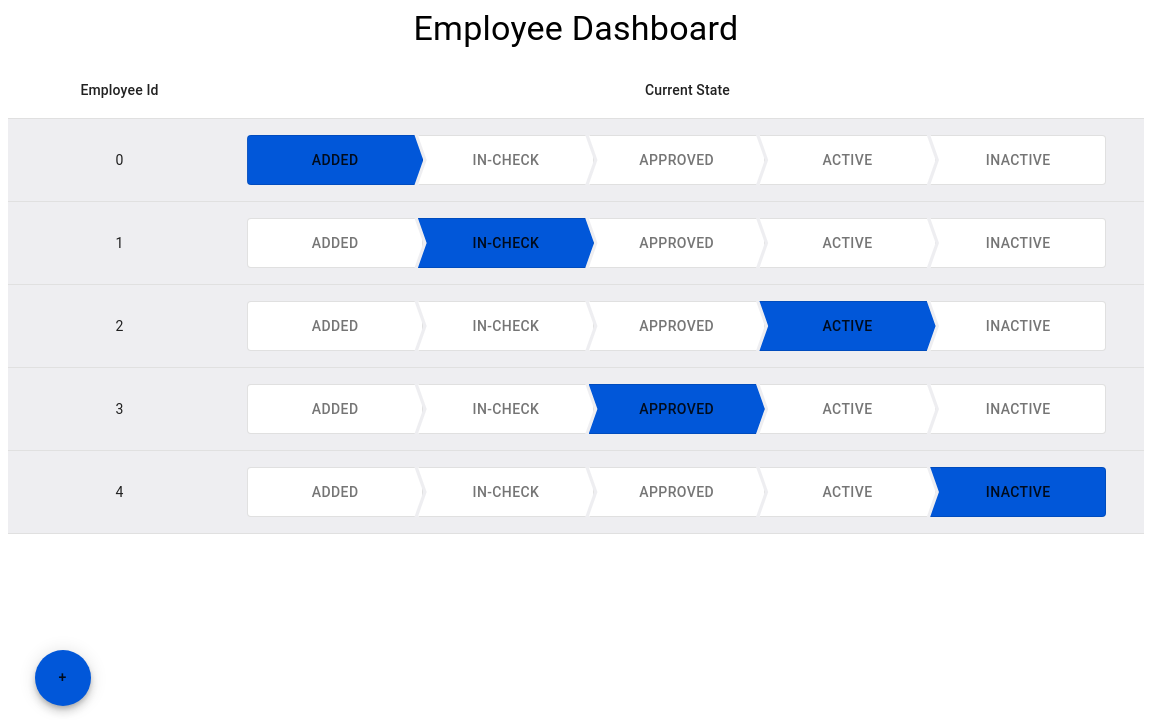
Test: Tests for Dashboard › Clicking Add button adds an employee
Expected: the heading "Employee Dashboard" is shown, [414,8,738,48]
Click the button "+" at (62, 678), box [34,650,90,706]
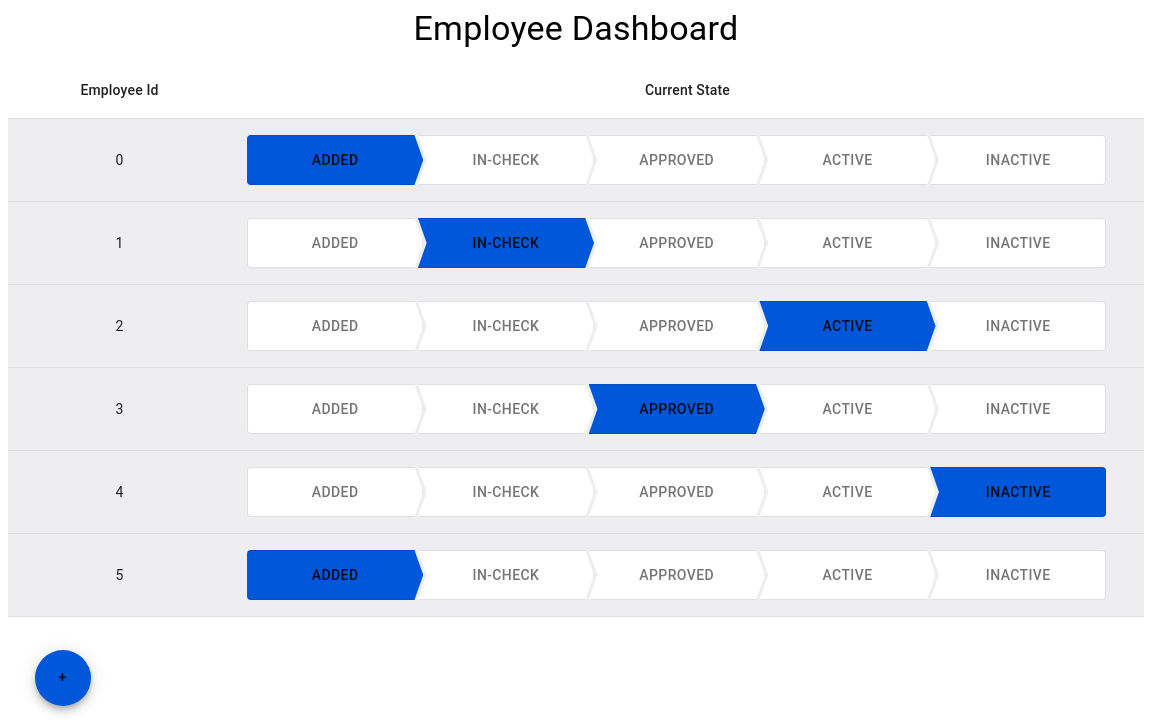
Expected: the text "5" is shown, [8,533,231,616]
